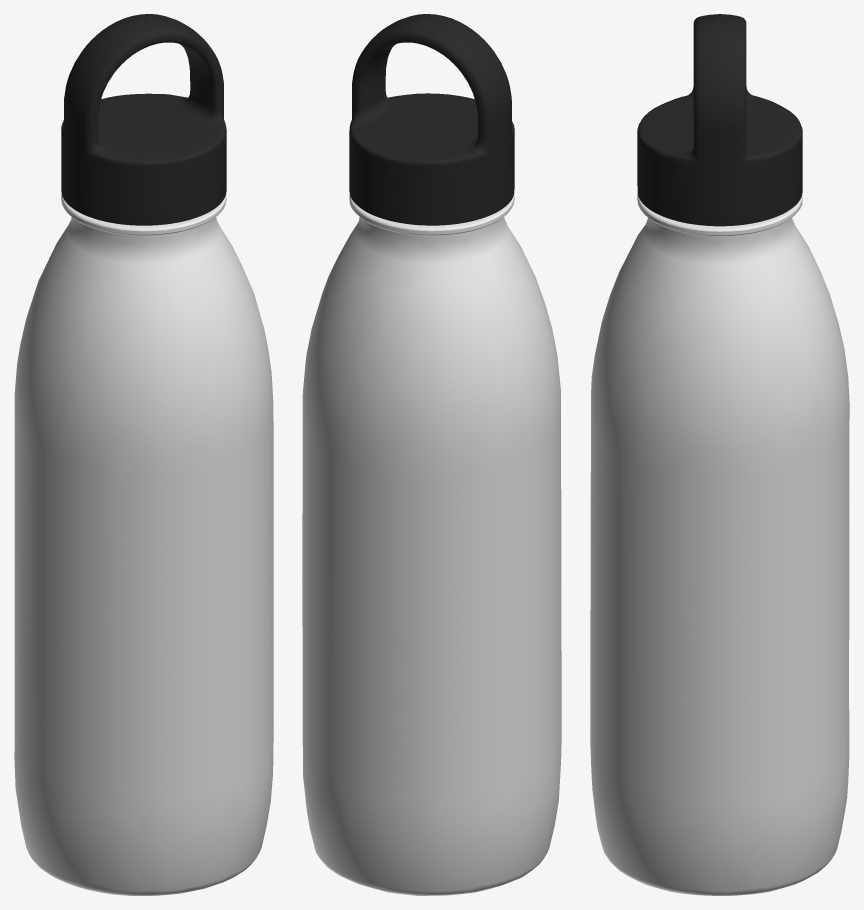
File: IKEA 365+ bouteille eau 0.7 l rayé-gris foncé.glb
3 renders of one model, left to right at view 1: azimuth 30°, elevation 25°; view 2: azimuth 150°, elevation 25°; view 3: azimuth 270°, elevation 25°, orthographic.
Parts seen in each view (by area): view 1: model; view 2: model; view 3: model.
Boxes of the visible parts, x1=… form: model: x1=14, y1=14, x2=273, y2=895; model: x1=302, y1=14, x2=561, y2=895; model: x1=590, y1=14, x2=849, y2=895.
Size of the model in its own units: 0.0736 by 0.2598 by 0.0738.
2 materials, 2 textured.
